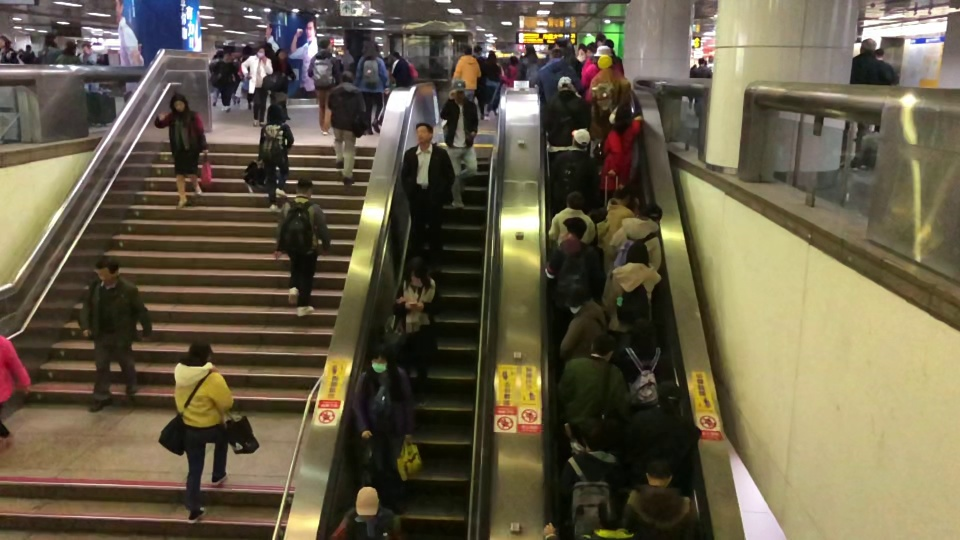person_head: (581, 420, 614, 449), (369, 341, 394, 375), (356, 485, 381, 519), (588, 333, 615, 364), (644, 458, 672, 485), (94, 255, 121, 282), (630, 319, 656, 347), (657, 380, 681, 410), (186, 338, 212, 363), (562, 216, 588, 241), (625, 240, 650, 266), (564, 283, 586, 310), (406, 256, 427, 284), (606, 103, 632, 125), (593, 45, 616, 64), (620, 186, 639, 209), (642, 203, 665, 222), (569, 128, 590, 148), (169, 93, 190, 112), (266, 104, 285, 124), (295, 177, 313, 198), (415, 121, 433, 142), (858, 37, 877, 54), (597, 55, 617, 71), (566, 190, 584, 207), (452, 78, 466, 99), (556, 76, 574, 92), (361, 39, 376, 54), (340, 69, 354, 83), (44, 33, 57, 48), (64, 41, 77, 55), (318, 37, 332, 50), (254, 45, 267, 58), (276, 48, 289, 60), (0, 35, 11, 48), (222, 51, 233, 64), (555, 38, 568, 49), (81, 42, 91, 56), (548, 48, 561, 58), (876, 46, 885, 60), (523, 44, 534, 54), (488, 51, 497, 63), (473, 45, 482, 56), (463, 44, 471, 55), (509, 56, 518, 65), (603, 39, 612, 48), (392, 51, 400, 59), (697, 57, 704, 65)
person_vbox: (78, 255, 154, 414), (350, 340, 416, 514), (173, 338, 235, 523), (272, 176, 331, 317), (400, 123, 456, 267), (630, 379, 702, 483), (558, 333, 630, 435), (559, 419, 622, 535), (393, 256, 438, 404), (154, 92, 209, 209), (603, 203, 662, 312), (624, 457, 698, 540), (839, 38, 883, 169), (602, 241, 662, 331), (439, 79, 480, 206), (544, 216, 597, 314), (616, 319, 672, 408), (327, 69, 367, 187), (257, 103, 294, 216), (599, 102, 643, 195), (596, 185, 640, 275), (330, 486, 401, 540), (558, 283, 607, 359), (542, 76, 589, 153), (589, 55, 631, 141), (551, 127, 597, 205), (307, 37, 342, 137), (0, 335, 32, 444), (353, 39, 390, 131), (547, 189, 596, 249), (240, 45, 273, 125), (581, 45, 622, 103), (539, 48, 581, 100), (875, 48, 898, 131), (273, 49, 296, 121), (451, 43, 481, 98), (581, 39, 625, 74), (217, 52, 237, 113), (692, 59, 713, 111), (474, 45, 488, 120), (79, 44, 100, 91), (486, 51, 500, 118), (520, 43, 539, 85), (39, 32, 61, 63), (500, 56, 521, 88), (392, 51, 410, 86), (57, 41, 81, 65), (0, 36, 18, 63)
